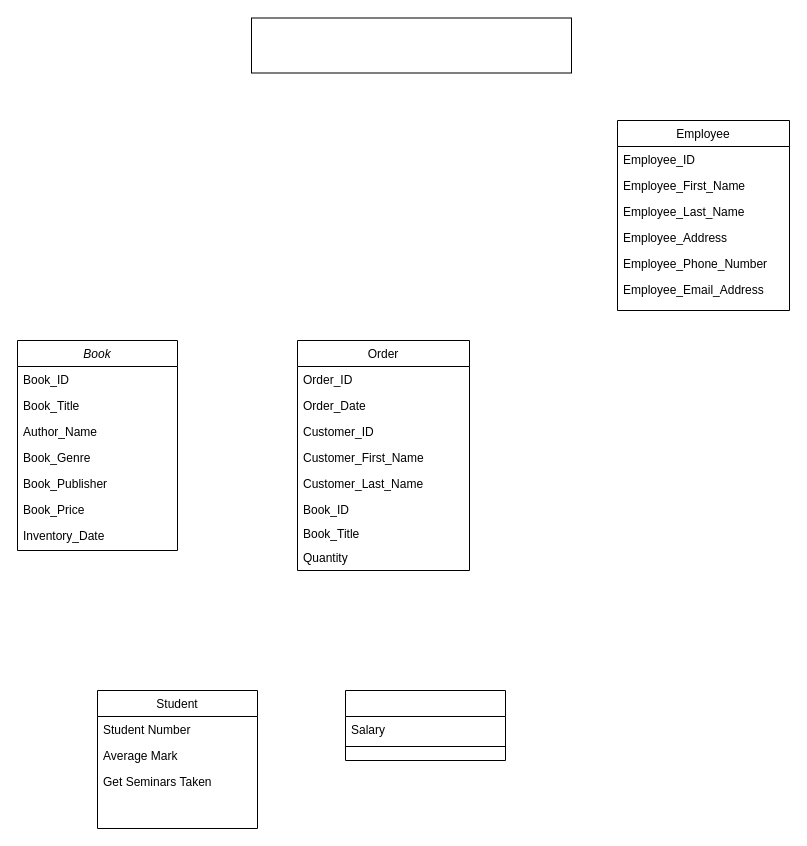
The diagram is 807 pixels wide and 846 high, and some of its shapes have lost their labels. Here are the shapes that lost their labels. From the top down, the box of each, then its label:
(250, 17, 572, 73): Small Bookstore Logical Model
(344, 690, 506, 760): Professor
